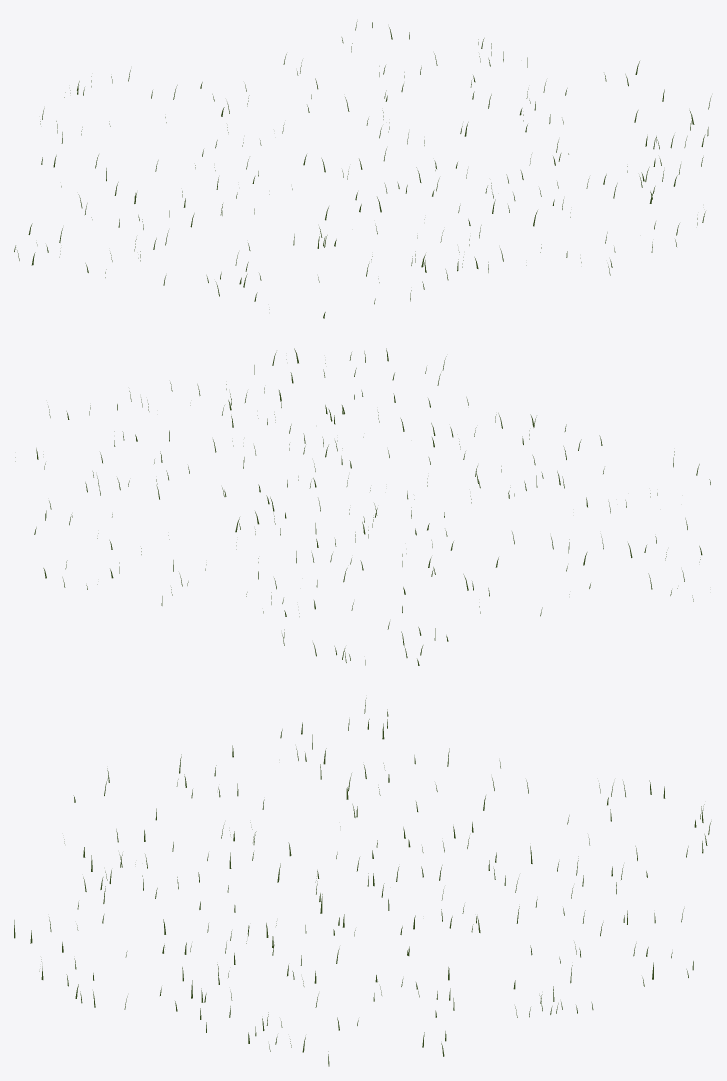
3 views of the same model, one above another, from view 1: azimuth 30°, elevation 25°; view 2: azimuth 150°, elevation 25°; view 3: azimuth 270°, elevation 25° (orthographic). The views are drawn at different scales.
Parts seen in each view (by area): view 1: GrassPatch; view 2: GrassPatch; view 3: GrassPatch.
Part boxes in pixels (x1,y1,x2,y2): GrassPatch: (14, 21, 711, 318); GrassPatch: (15, 348, 710, 665); GrassPatch: (14, 698, 711, 1066).
Size of the model in its own units: 19.7 by 0.4917 by 16.3.
